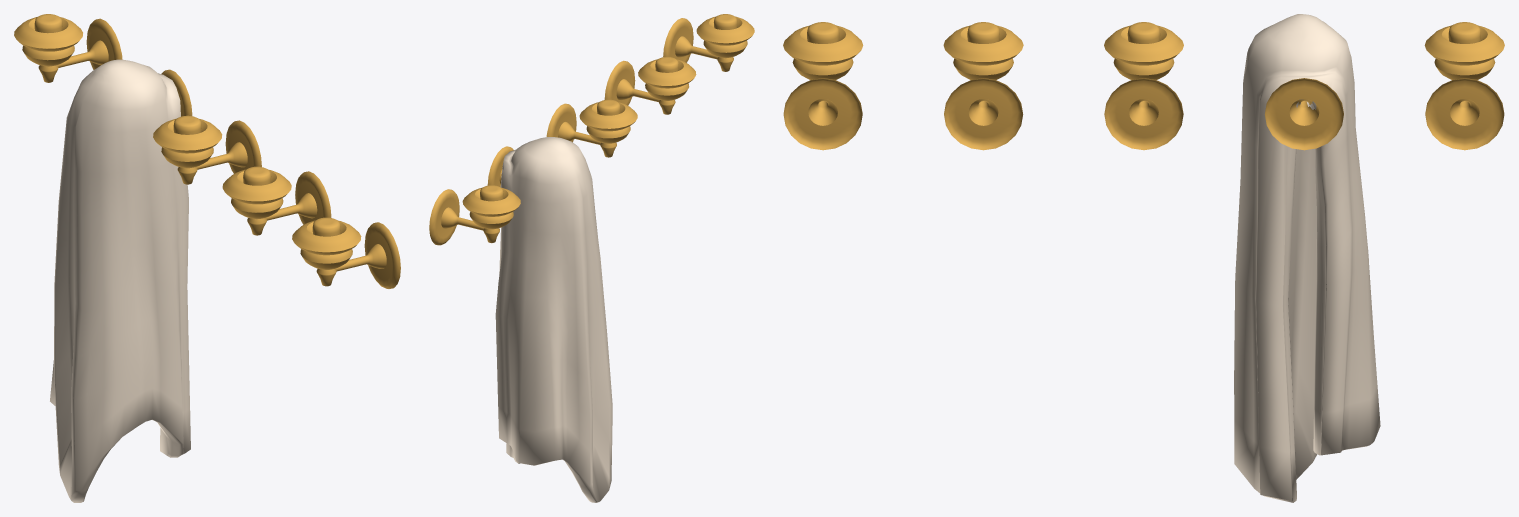
The model's file is OT_163_towel_hooks.glb.
3 renders of one model, left to right at view 1: azimuth 30°, elevation 25°; view 2: azimuth 150°, elevation 25°; view 3: azimuth 270°, elevation 25°, orthographic. The views are drawn at different scales.
Visible parts, largest first — view 1: towel, hooks; view 2: towel, hooks; view 3: towel, hooks.
Boxes of the visible parts, x1,y1,x2,y2 form: towel: (50,59,190,502); hooks: (14,14,400,288); towel: (495,137,612,502); hooks: (429,14,754,245); towel: (1234,14,1380,502); hooks: (783,22,1504,150).
Bounding box in the file's own units: 0.5083 × 1.77 × 2.36.
